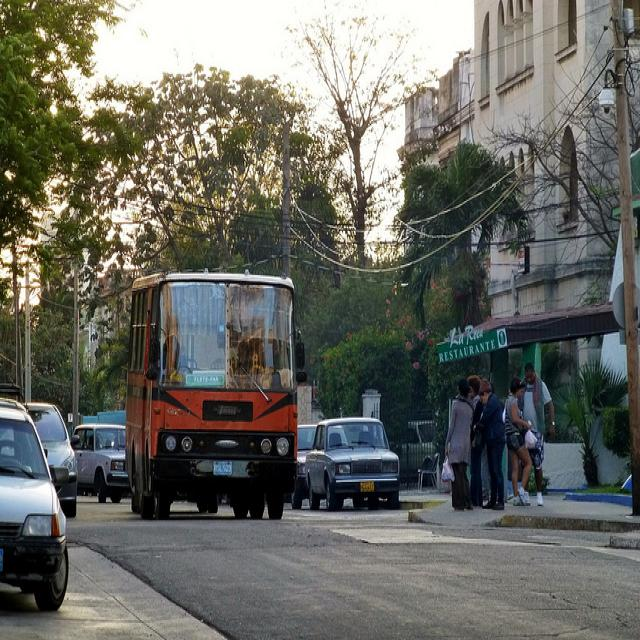Vehicle: (126, 276, 310, 519), (0, 388, 70, 613), (304, 414, 400, 512), (26, 404, 80, 518), (74, 426, 130, 506), (396, 420, 438, 480), (291, 423, 317, 509)
